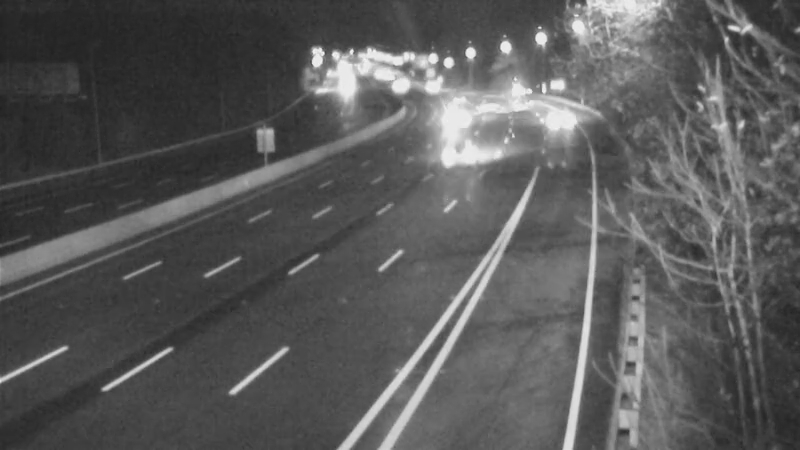vehicle: (424, 114, 504, 194), (407, 60, 457, 110), (371, 64, 421, 114), (427, 69, 477, 119), (495, 72, 545, 122), (464, 84, 514, 134), (527, 90, 577, 140), (427, 88, 477, 138)
